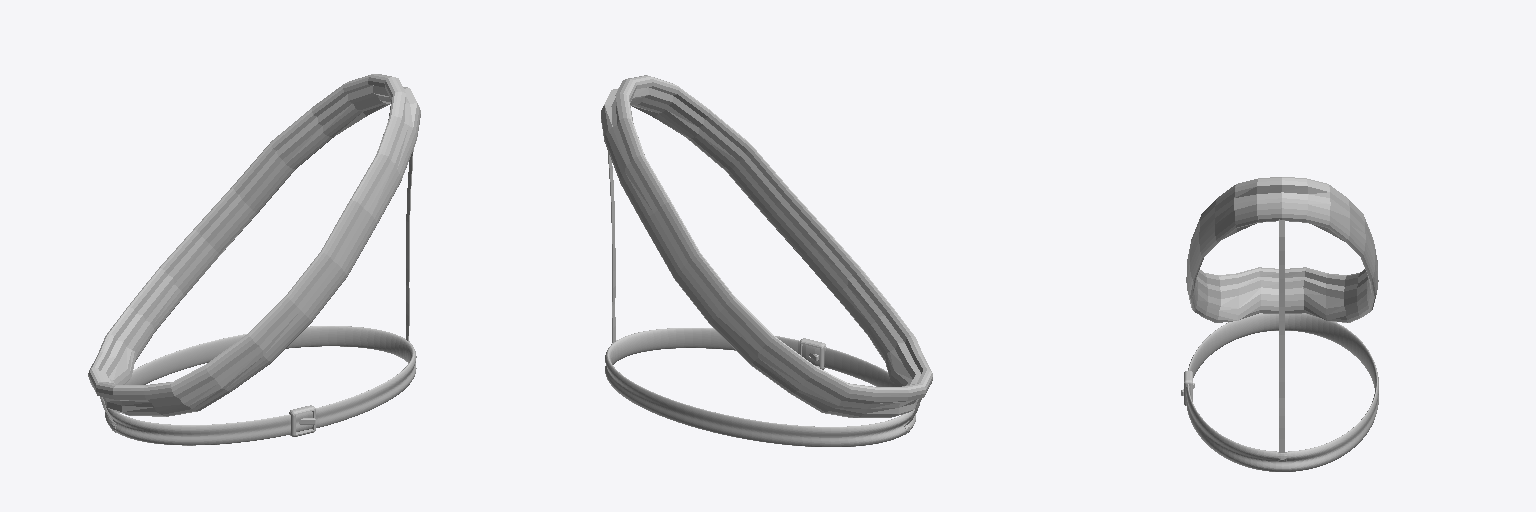
Rendered from lowPoly_CBA.obj.
The picture shows the model from 3 angles: view 1: azimuth 30°, elevation 25°; view 2: azimuth 150°, elevation 25°; view 3: azimuth 270°, elevation 25°; orthographic projection.
Parts seen in each view (by area): view 1: crossBody, Belt_Loop, latch1 latch2; view 2: crossBody, Belt_Loop, latch1 latch2; view 3: crossBody, Belt_Loop, latch1 latch2.
Boxes of the visible parts, x1=… form: crossBody: x1=88, y1=74, x2=420, y2=416; Belt_Loop: x1=105, y1=326, x2=416, y2=445; latch1 latch2: x1=406, y1=149, x2=413, y2=340; crossBody: x1=601, y1=75, x2=932, y2=417; Belt_Loop: x1=605, y1=328, x2=915, y2=446; latch1 latch2: x1=608, y1=152, x2=615, y2=342; crossBody: x1=1186, y1=177, x2=1378, y2=322; Belt_Loop: x1=1186, y1=313, x2=1378, y2=471; latch1 latch2: x1=1279, y1=219, x2=1284, y2=452.
Bounding box in the file's own units: 3.06 × 2.66 × 1.65.